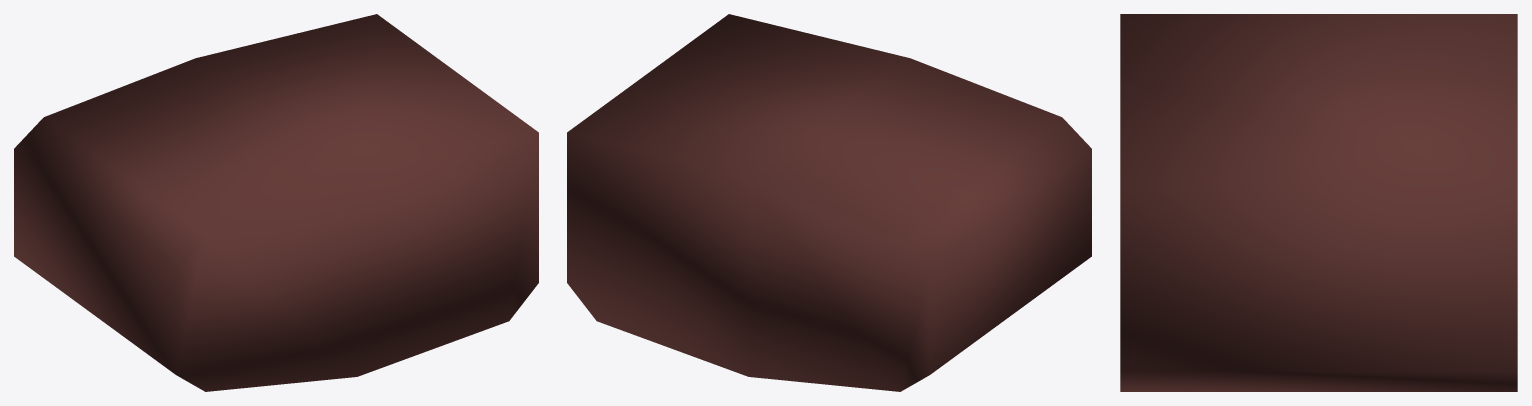
Rendered from Foot_L.obj.
3 renders of one model, left to right at view 1: azimuth 30°, elevation 25°; view 2: azimuth 150°, elevation 25°; view 3: azimuth 270°, elevation 25°, orthographic. The views are drawn at different scales.
Parts seen in each view (by area): view 1: C_Foot_L; view 2: C_Foot_L; view 3: C_Foot_L.
Part boxes in pixels (bbox=[...]): C_Foot_L: bbox=[14, 14, 538, 391]; C_Foot_L: bbox=[567, 14, 1091, 391]; C_Foot_L: bbox=[1120, 14, 1517, 391].
Bounding box in the file's own units: 0.5178 × 0.2729 × 0.4.
Materials: 1 (1 with a texture image).
